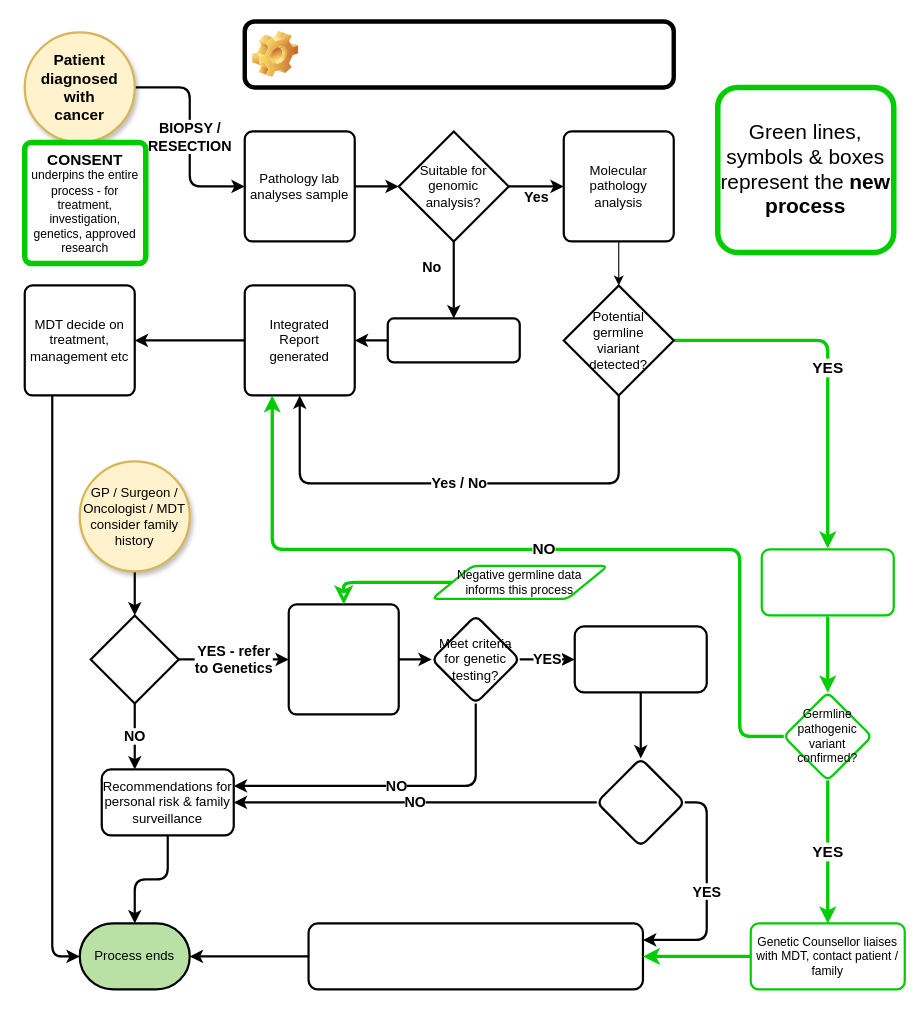
The diagram is 924 pixels wide and 1009 high, and some of its shapes have lost their labels. The centre of each missing label's shape, as x and y in pixels:
"Complete Pathology analysis" belongs at point 453,340.
"Confirmatory testing in Germline lab" belongs at point 827,582.
"Family history significant?" belongs at point 134,659.
"Genetic counselling Targeted surveillance Cascade testing in family" belongs at point 475,956.
"Genetics team assess family history" belongs at point 343,659.
"Germline cancer panel testing" belongs at point 640,659.
"Germline variant detected?" belongs at point 640,802.
"PHASE 2 PROCESS" belongs at point 458,54.
